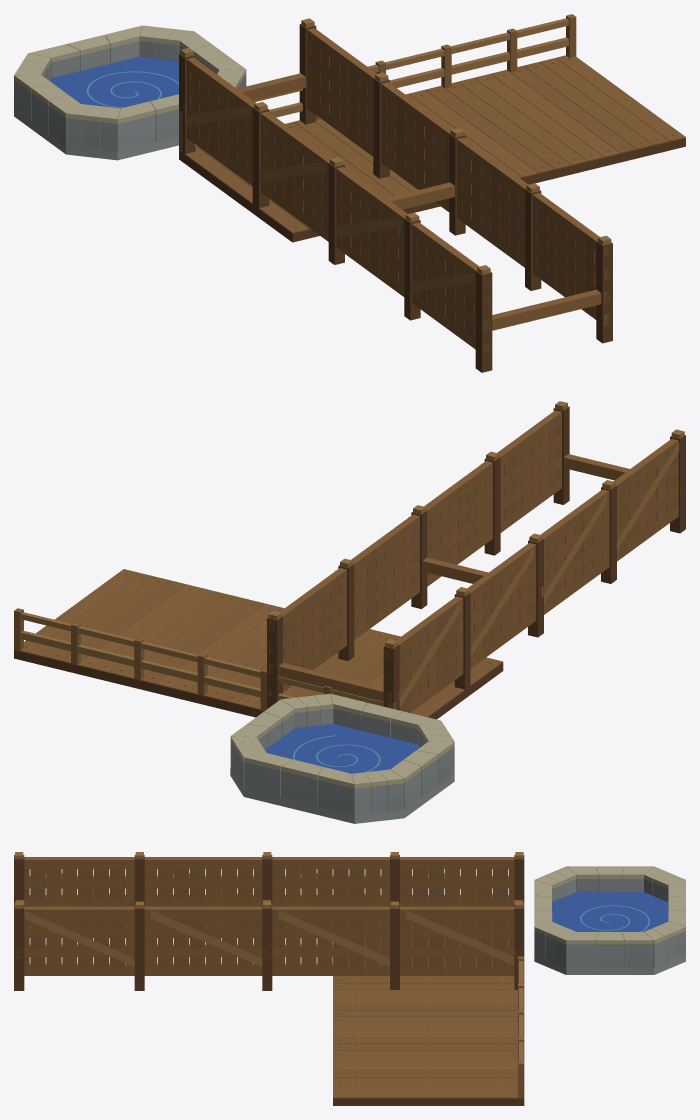
File: alderwake_landmark_kit.glb
The picture shows the model from 3 angles, top to bottom: view 1: azimuth 30°, elevation 25°; view 2: azimuth 150°, elevation 25°; view 3: azimuth 270°, elevation 25°; orthographic projection. The views are drawn at different scales.
Visible parts, largest first — view 1: GEO-closed-east-gate, GEO-bridge-deck, GEO-moonwell, GEO-bridge-rail; view 2: GEO-closed-east-gate, GEO-bridge-deck, GEO-moonwell, GEO-bridge-rail; view 3: GEO-closed-east-gate, GEO-bridge-deck, GEO-moonwell, GEO-bridge-rail.
Part boxes in pixels (box(x1,y1,x2,y2)): GEO-closed-east-gate: box(179, 18, 612, 372); GEO-bridge-deck: box(179, 55, 685, 242); GEO-moonwell: box(14, 25, 246, 160); GEO-bridge-rail: box(179, 14, 576, 153); GEO-closed-east-gate: box(267, 401, 685, 712); GEO-bridge-deck: box(14, 569, 503, 719); GEO-moonwell: box(230, 693, 454, 823); GEO-bridge-rail: box(14, 608, 396, 711); GEO-closed-east-gate: box(14, 852, 524, 990); GEO-bridge-deck: box(333, 938, 524, 1105); GEO-moonwell: box(534, 866, 685, 974); GEO-bridge-rail: box(518, 956, 524, 1098).
Size of the model in its own units: 7.34 by 1.6 by 10.53.
